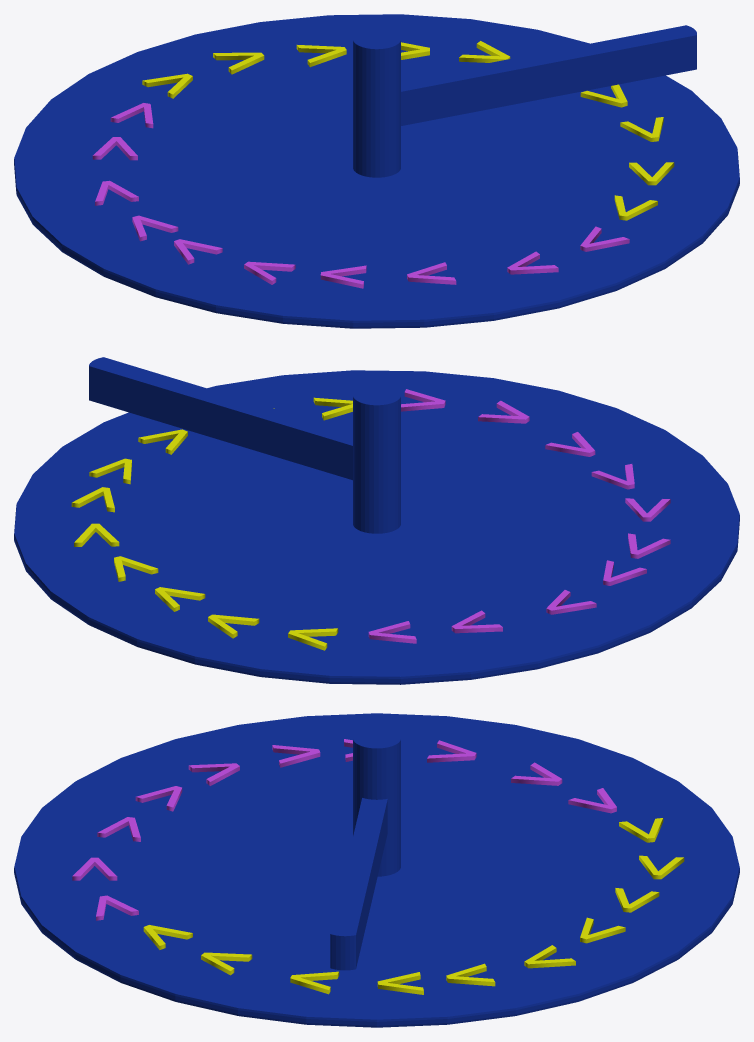
The model's file is rotator.fbx.
3 views of the same model, one above another, from view 1: azimuth 30°, elevation 25°; view 2: azimuth 150°, elevation 25°; view 3: azimuth 270°, elevation 25° (orthographic).
Parts seen in each view (by area): view 1: Cylinder, Cylinder.001, Text.001, Text.016, Text.005, Text.011, Text, Text.012, Text.015, Text.017, Text.006, Text.002 (+2 smaller); view 2: Cylinder, Cylinder.001, Text.004, Text.015, Text.014, Text, Text.005, Text.006, Text.003, Text.016, Text.011, Text.009 (+1 smaller); view 3: Cylinder, Cylinder.001, Text.008, Text.009, Text.018, Text.003, Text.002, Text.019, Text.012, Text.017, Text.014, Text.010 (+3 smaller).
Part boxes in pixels (left/top/right/bottom): Cylinder: left=14, top=14, right=739, bottom=328; Cylinder.001: left=353, top=25, right=696, bottom=177; Text.001: left=320, top=265, right=366, bottom=288; Text.016: left=296, top=45, right=346, bottom=67; Text.005: left=213, top=52, right=264, bottom=74; Text.011: left=407, top=262, right=456, bottom=284; Text: left=507, top=251, right=558, bottom=274; Text.012: left=244, top=261, right=295, bottom=284; Text.015: left=142, top=73, right=192, bottom=98; Text.017: left=459, top=41, right=510, bottom=62; Text.006: left=580, top=226, right=629, bottom=251; Text.002: left=174, top=239, right=222, bottom=264; Cylinder: left=14, top=370, right=739, bottom=684; Cylinder.001: left=89, top=357, right=400, bottom=533; Text.004: left=368, top=621, right=416, bottom=643; Text.015: left=288, top=628, right=338, bottom=650; Text.014: left=451, top=610, right=502, bottom=633; Text: left=478, top=400, right=529, bottom=423; Text.005: left=208, top=614, right=259, bottom=638; Text.006: left=401, top=389, right=445, bottom=411; Text.003: left=546, top=590, right=596, bottom=614; Text.016: left=155, top=587, right=205, bottom=611; Text.011: left=545, top=432, right=595, bottom=456; Text.009: left=138, top=429, right=187, bottom=454; Cylinder: left=14, top=713, right=739, bottom=1027; Cylinder.001: left=330, top=728, right=400, bottom=970; Text.008: left=446, top=963, right=495, bottom=986; Text.009: left=290, top=971, right=339, bottom=994; Text.018: left=377, top=972, right=423, bottom=994; Text.003: left=427, top=740, right=476, bottom=762; Text.002: left=272, top=745, right=320, bottom=767; Text.019: left=201, top=952, right=252, bottom=975; Text.012: left=188, top=763, right=239, bottom=785; Text.017: left=524, top=945, right=575, bottom=968; Text.014: left=511, top=762, right=562, bottom=785; Text.010: left=143, top=925, right=192, bottom=949.
Size of the model in its own units: 1419 by 296 by 1419.
